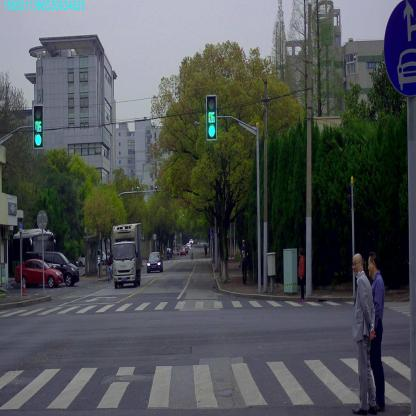traffic-light: (206, 95, 217, 140), (33, 104, 43, 148)
